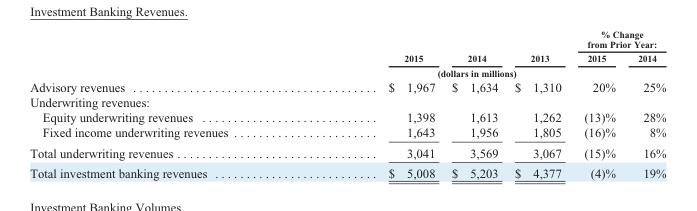table: (29, 28, 665, 179)
table column: (29, 28, 307, 179), (307, 28, 442, 179), (505, 28, 572, 179), (442, 28, 505, 179), (572, 28, 626, 179), (626, 28, 665, 179)
table column header: (29, 28, 665, 78)
table projected row header: (29, 94, 665, 109)
table row: (29, 28, 665, 50), (29, 142, 665, 162), (29, 124, 665, 142), (29, 162, 665, 179), (29, 78, 665, 94), (29, 50, 665, 65), (29, 94, 665, 109), (29, 109, 665, 124), (29, 65, 665, 78)
table spanning cell: (307, 28, 442, 65), (307, 65, 572, 78), (505, 28, 572, 65), (442, 28, 505, 65), (572, 28, 665, 50), (572, 50, 626, 78), (626, 50, 665, 78)
